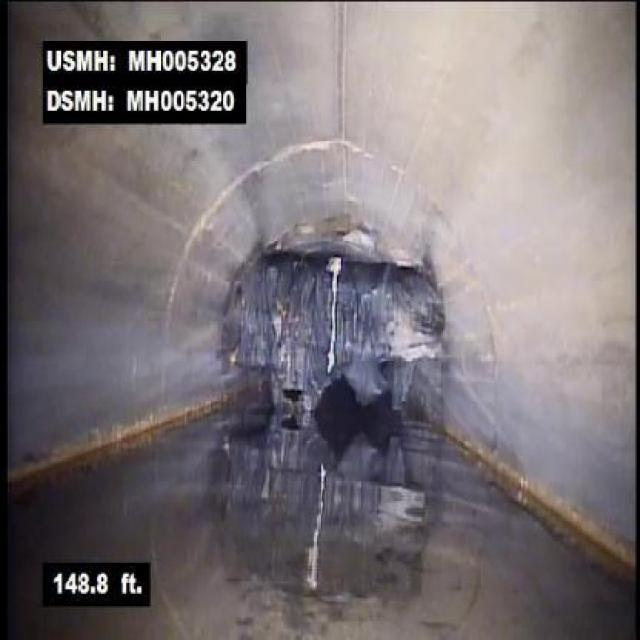Utility intrusion: (212, 231, 458, 389)
